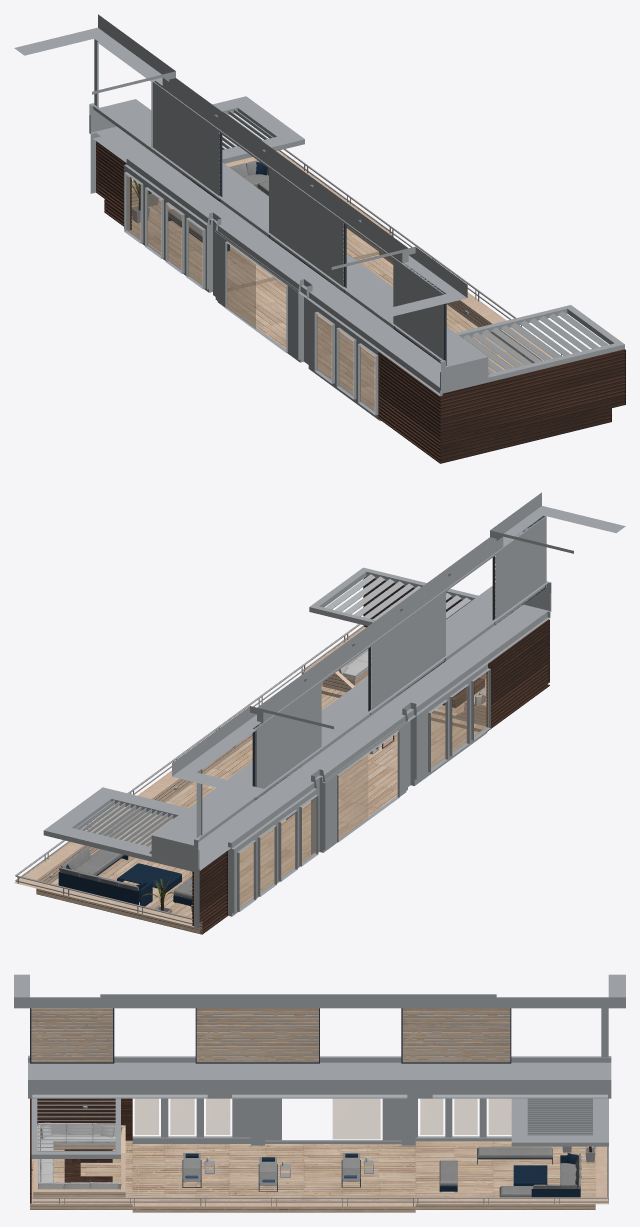
File: room_04_terrace.glb
3 renders of one model, top to bottom at view 1: azimuth 30°, elevation 25°; view 2: azimuth 150°, elevation 25°; view 3: azimuth 270°, elevation 25°, orthographic. The views are drawn at different scales.
Parts seen in each view (by area): view 1: wall_01, sum_panels, Room4_glass, ramp; view 2: wall_01, sum_panels, Room4_glass, base (×2), ramp, table_02; view 3: wall_01, sum_panels, Room4_glass, base (×2), ramp, couch_02, table_01, table_02, couch_04, sun_lounger_01-room4_D, sun_lounger_03-room4_D, sun_lounger_02-room4_D.
Boxes of the visible parts, x1,y1,x2,y2 form: wall_01: (14,14,625,463); sum_panels: (92,81,624,393); Room4_glass: (126,176,374,411); ramp: (131,149,561,356); wall_01: (14,492,625,934); sum_panels: (43,515,545,872); Room4_glass: (240,672,488,908); base (×2): (58,668,486,906); ramp: (15,624,364,924); table_02: (117,863,181,893); wall_01: (14,974,625,1212); sum_panels: (30,1008,608,1158); Room4_glass: (135,1099,511,1138); base (×2): (33,1125,580,1197); ramp: (32,1146,608,1206); couch_02: (477,1147,552,1164); table_01: (64,1149,112,1182); table_02: (513,1165,547,1185); couch_04: (439,1160,457,1192); sun_lounger_01-room4_D: (183,1153,200,1182); sun_lounger_03-room4_D: (342,1153,360,1181); sun_lounger_02-room4_D: (259,1157,276,1185).
Size of what is drawn, in the model's own units: 11.88 by 8.34 by 30.21.
4 materials, 4 textured.
